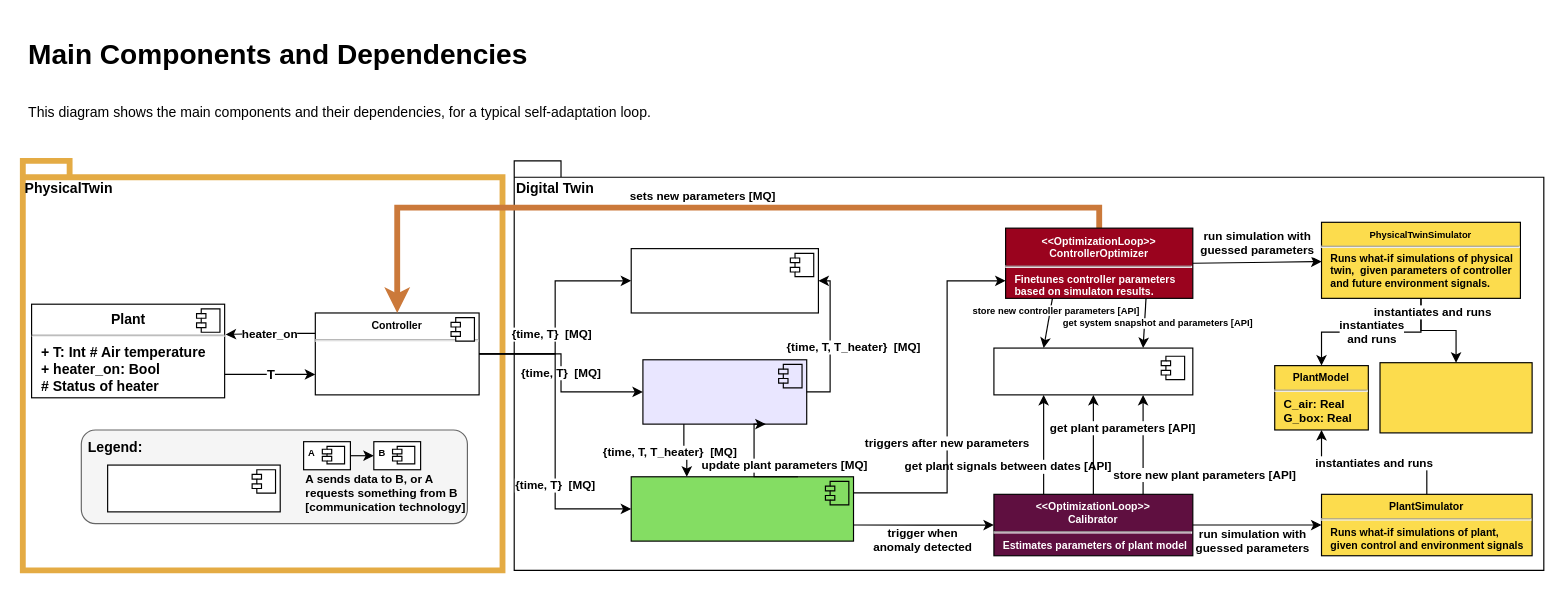
This 1564x593 diagram has some shape labels left out. The shapes that lost their labels are listed below. From the top down, each one's box as (x1, y1, x2, y2) in pixels, then its label:
(630, 247, 818, 313): InfluxDataRecorder Convenience service to record all state messages into DB
(993, 347, 1193, 395): «TimeSeriesDB» InfluxDB
(642, 359, 807, 424): KalmanFilter Estimates full Plant state (T and T_heater)
(1379, 362, 1532, 433): ControllerModel ctrl_parameters
(106, 464, 280, 512): Component Main variables, or responsibility.
(630, 476, 854, 541): SelfAdaptationManager Coordinates the self adaptation loop
